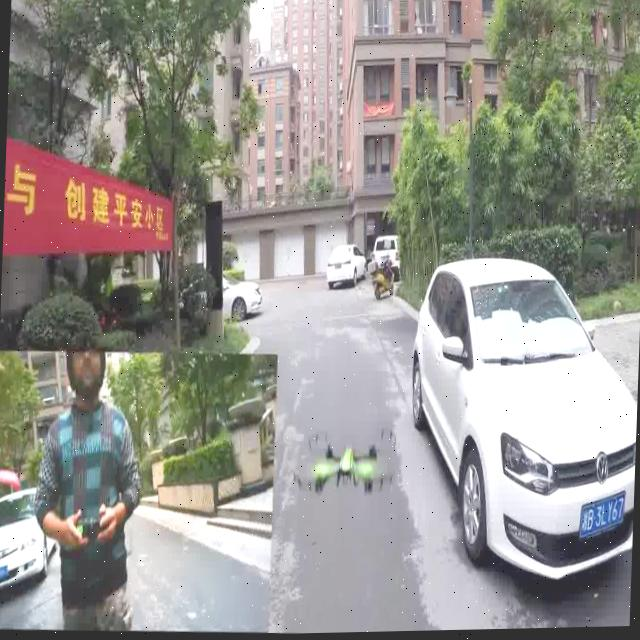drone: (291, 406, 404, 517)
